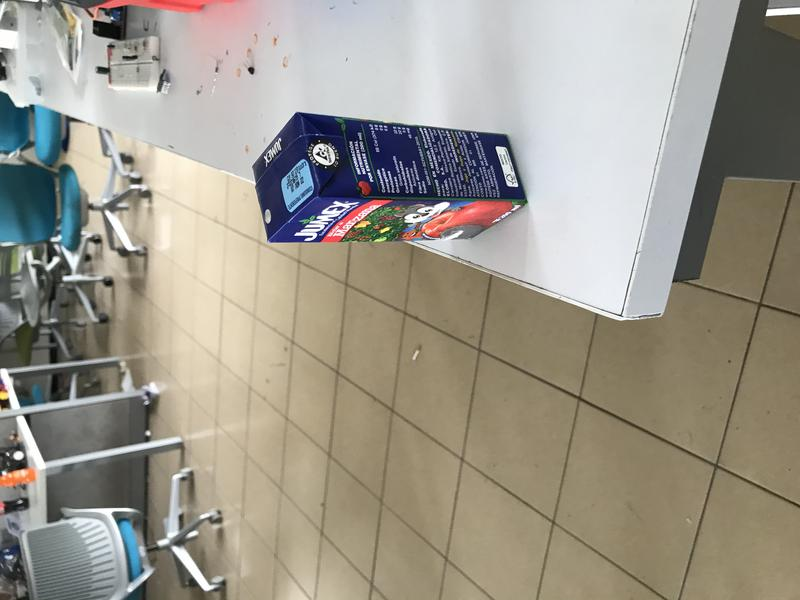jumex_cajita: (253, 112, 527, 244)
